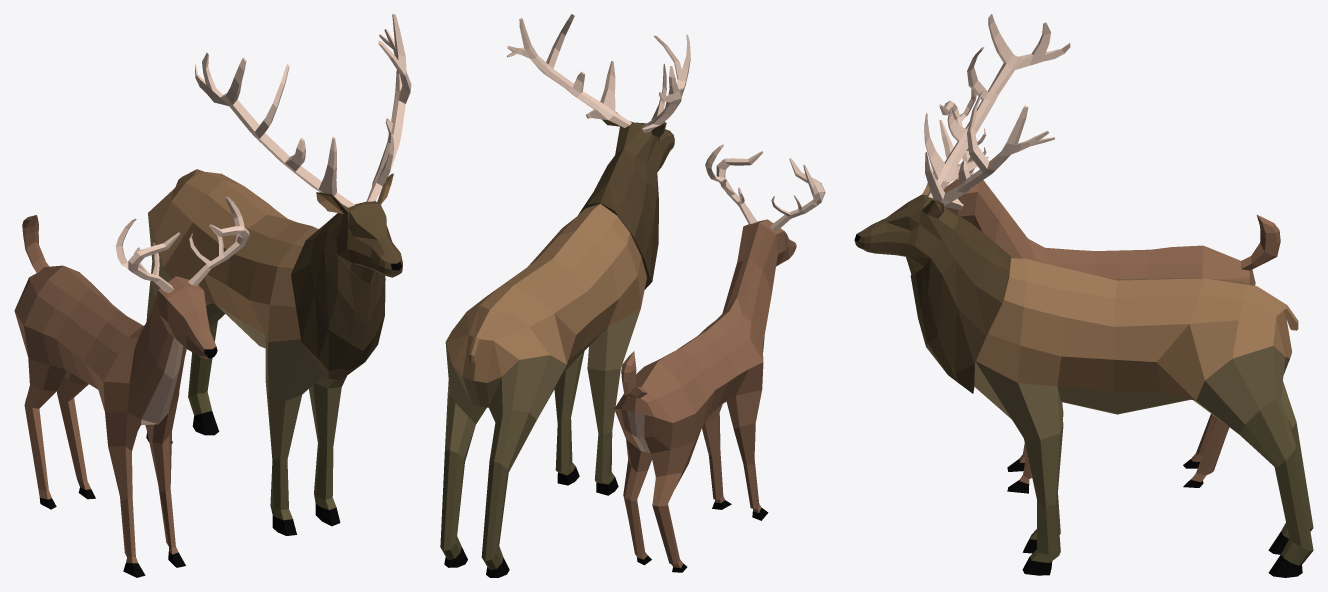
The model's file is deer.gltf.
3 views of the same model, side by side, from view 1: azimuth 30°, elevation 25°; view 2: azimuth 150°, elevation 25°; view 3: azimuth 270°, elevation 25° (orthographic). The views are drawn at different scales.
Visible parts, largest first — view 1: 09deerFinal, 05deerFinal; view 2: 09deerFinal, 05deerFinal; view 3: 09deerFinal, 05deerFinal.
Boxes of the visible parts, x1,y1,x2,y2 form: 09deerFinal: (146, 14, 411, 535); 05deerFinal: (14, 196, 249, 577); 09deerFinal: (440, 14, 690, 577); 05deerFinal: (614, 144, 825, 572); 09deerFinal: (854, 14, 1313, 577); 05deerFinal: (939, 80, 1280, 493).
Size of the model in its own units: 1.74 by 2.72 by 2.24.
2 materials, 2 textured.
